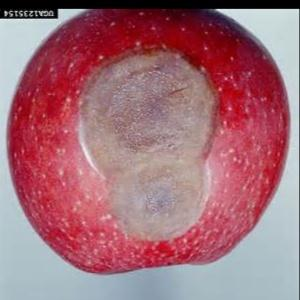rotten apple: (5, 10, 293, 276)
